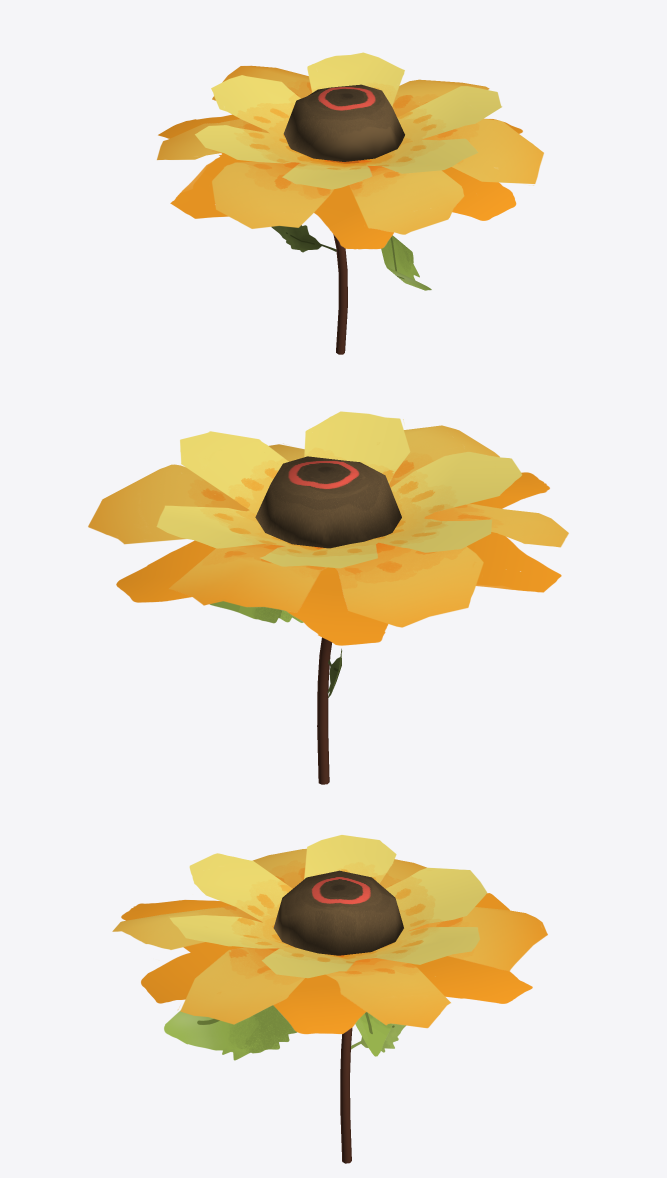
Rendered from Sunflower1.glb.
3 renders of one model, top to bottom at view 1: azimuth 30°, elevation 25°; view 2: azimuth 150°, elevation 25°; view 3: azimuth 270°, elevation 25°, orthographic. The views are drawn at different scales.
Parts seen in each view (by area): view 1: Plane.003; view 2: Plane.003; view 3: Plane.003.
Part boxes in pixels (x1,y1,x2,y2): Plane.003: [157, 52, 543, 354]; Plane.003: [88, 411, 568, 784]; Plane.003: [112, 835, 547, 1163].
Bounding box in the file's own units: 2.28 × 1.06 × 2.23.
8 materials, 7 textured.
